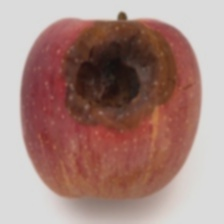apple: (10, 10, 197, 169)
